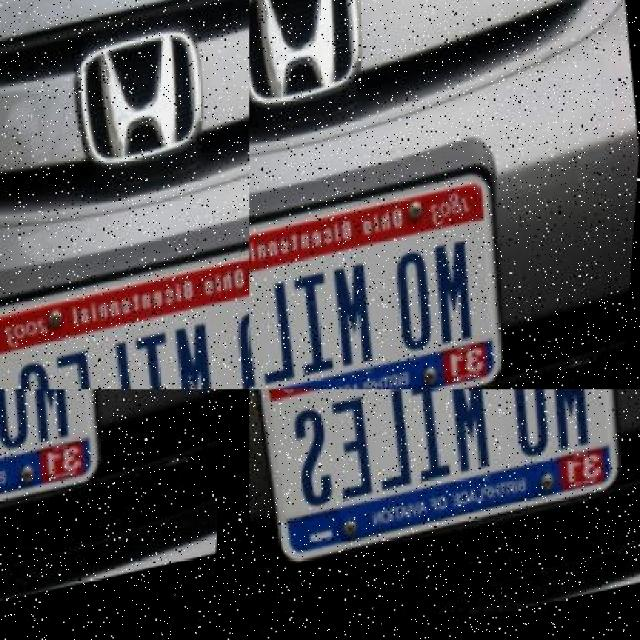licenseplate: (272, 389, 610, 514), (0, 61, 143, 212), (249, 235, 342, 315), (32, 389, 142, 434)
